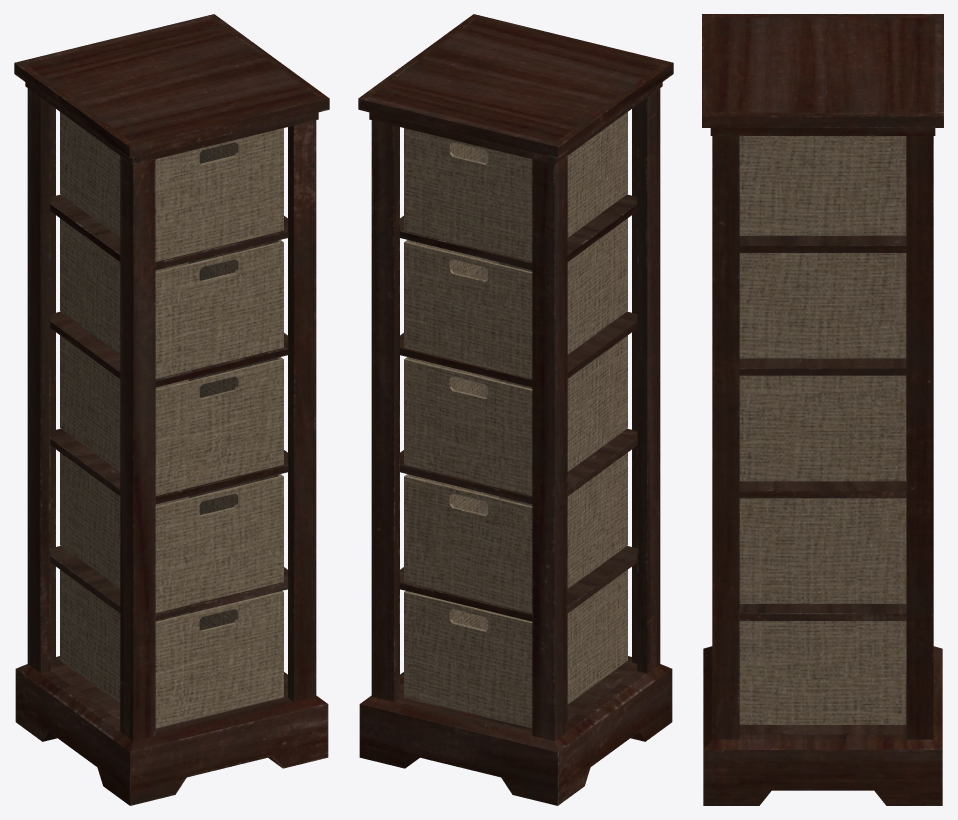
Rendered from Hamper 2K.fbx.
3 views of the same model, side by side, from view 1: azimuth 30°, elevation 25°; view 2: azimuth 150°, elevation 25°; view 3: azimuth 270°, elevation 25° (orthographic). The views are drawn at different scales.
Parts seen in each view (by area): view 1: Hamper 2K; view 2: Hamper 2K; view 3: Hamper 2K.
Part boxes in pixels (x1,y1,x2,y2): Hamper 2K: [14, 14, 329, 805]; Hamper 2K: [358, 14, 673, 805]; Hamper 2K: [702, 14, 943, 805].
Size of the model in its own units: 47.51 by 47.51 by 150.
1 material, 1 textured.
